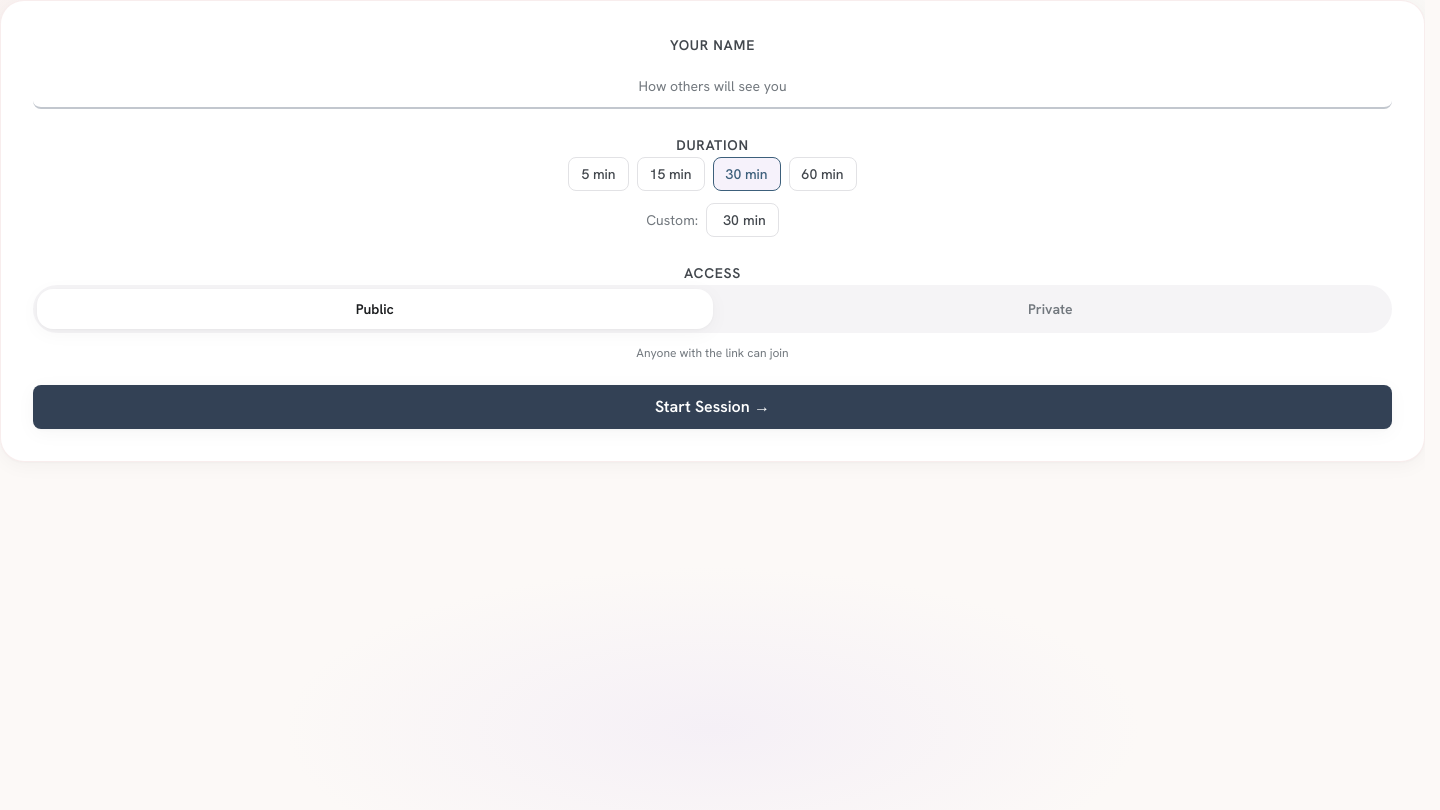
Test case: CreatePanel › shows password field when private access is selected
The width and height of the screenshot is (1440, 810).
Click the button "private" at [1050, 309], box 712,289 -> 1388,329
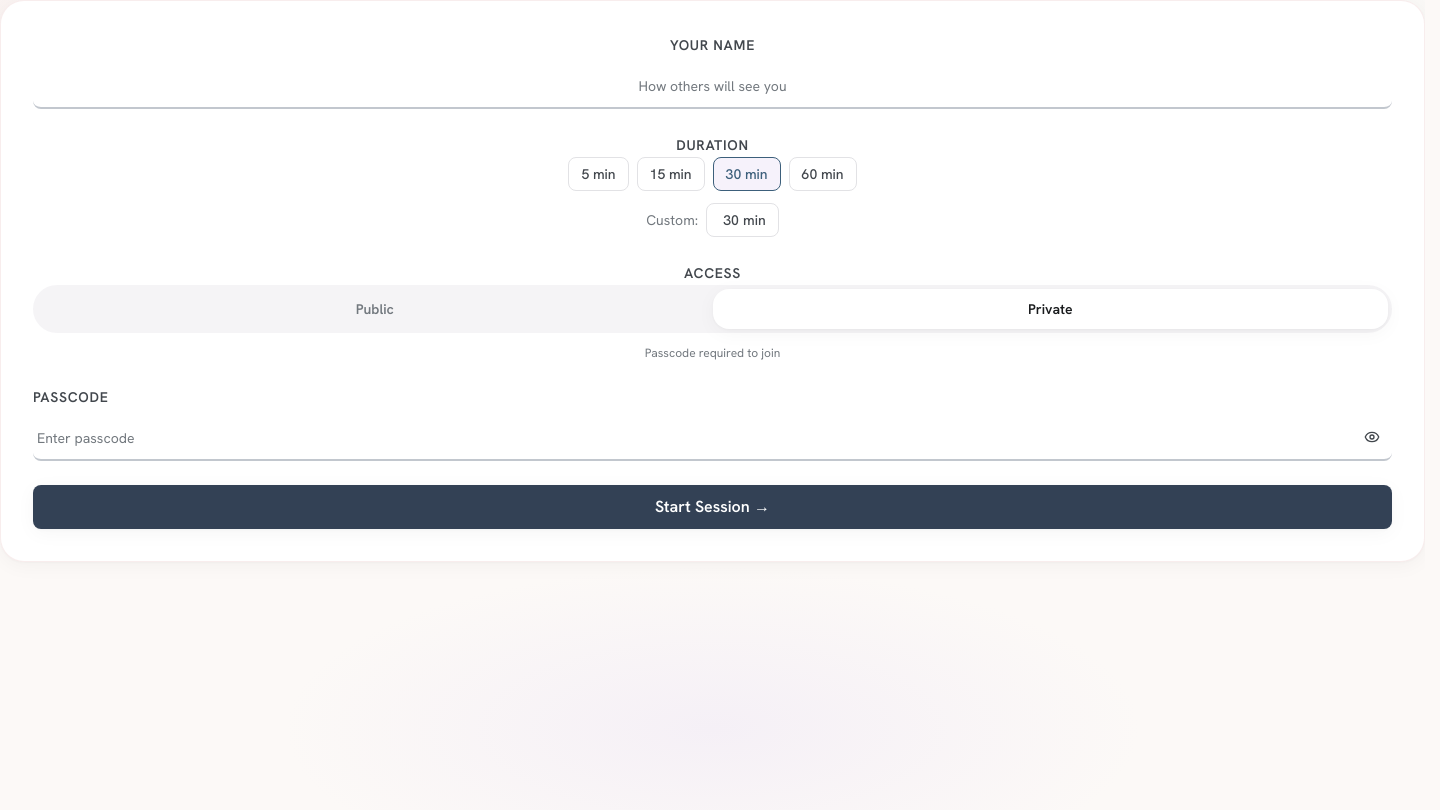
Expected: the password field with placeholder "Enter passcode" is shown, 33,417 -> 1392,461
